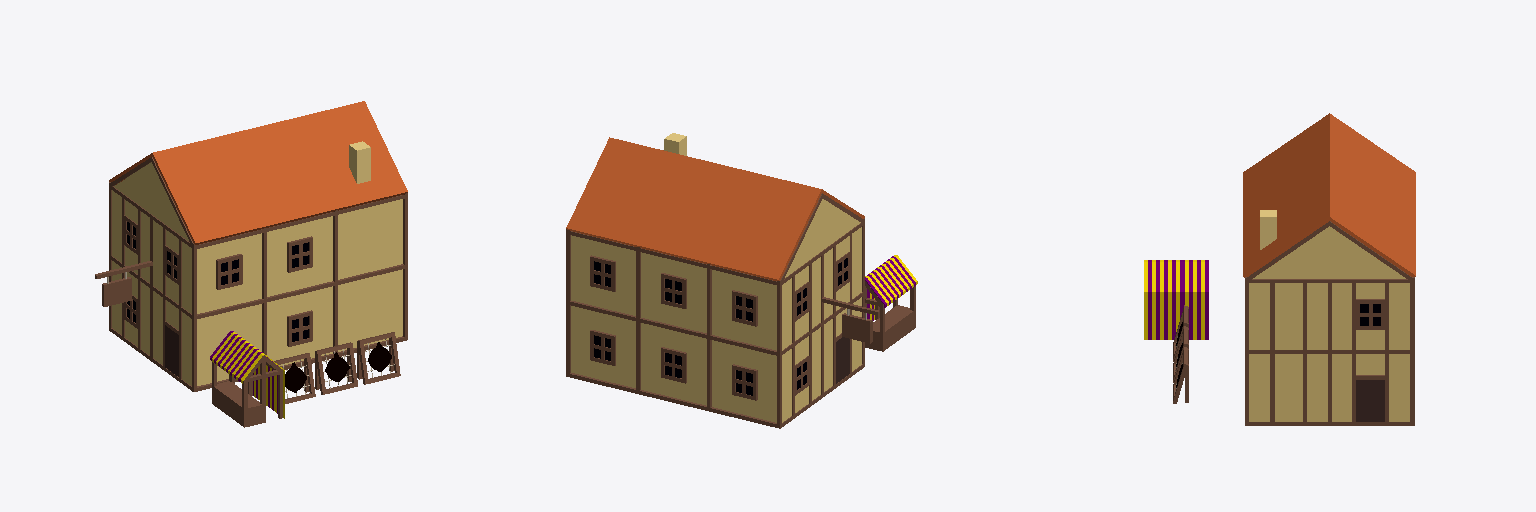
Rendered from timberframedtanner_purple_yellow.obj.
The picture shows the model from 3 angles: view 1: azimuth 30°, elevation 25°; view 2: azimuth 150°, elevation 25°; view 3: azimuth 270°, elevation 25°; orthographic projection.
Parts seen in each view (by area): view 1: Cube.005, Cube.007_Cube.011, Cylinder.001_Cylinder.008, Cylinder.003_Cylinder.001, Cylinder.004_Cylinder.009, Cube.011_Cube.015, Cube.018_Cube.016, Cube.056_Cube.081, Cube.001_Cube.058, Cube.013_Cube.080, Cube.006_Cube.010, Cube.026_Cube.019 (+7 smaller); view 2: Cube.005, Cube.007_Cube.011, Cube.023_Cube.026, Cube.022_Cube.025, Cube.021_Cube.024, Cube.015_Cube.020, Cube.019_Cube.022, Cube.017_Cube.021, Cube.014_Cube.018, Cube.008, Cube.020_Cube.023, Cube.073_Cube.078 (+6 smaller); view 3: Cube.005, Cube.007_Cube.011, Cube.147_Cube.153, Cube.003, Cube.033, Cube.027, Cube.047_Cube.049, Cube.016_Cube.013, Cube.031, Cube.006_Cube.010, Cube.032, Cylinder.001_Cylinder.008 (+5 smaller).
Part boxes in pixels (x1,y1,x2,y2): Cube.005: (112, 162, 402, 385); Cube.007_Cube.011: (109, 101, 407, 244); Cylinder.001_Cylinder.008: (357, 332, 400, 384); Cylinder.003_Cylinder.001: (315, 342, 357, 394); Cylinder.004_Cylinder.009: (274, 353, 315, 403); Cube.011_Cube.015: (195, 264, 406, 319); Cube.018_Cube.016: (195, 195, 406, 249); Cube.056_Cube.081: (216, 254, 242, 289); Cube.001_Cube.058: (287, 310, 312, 346); Cube.013_Cube.080: (287, 236, 312, 272); Cube.006_Cube.010: (349, 141, 370, 183); Cube.026_Cube.019: (192, 243, 196, 391); Cube.005: (571, 199, 861, 422); Cube.007_Cube.011: (566, 137, 864, 280); Cube.023_Cube.026: (567, 373, 779, 427); Cube.022_Cube.025: (567, 301, 776, 355); Cube.021_Cube.024: (567, 231, 777, 284); Cube.015_Cube.020: (732, 290, 757, 326); Cube.019_Cube.022: (661, 347, 686, 383); Cube.017_Cube.021: (590, 330, 615, 365); Cube.014_Cube.018: (661, 273, 686, 308); Cube.008: (590, 255, 615, 291); Cube.020_Cube.023: (732, 364, 757, 400); Cube.073_Cube.078: (842, 313, 872, 343); Cube.005: (1249, 226, 1409, 421); Cube.007_Cube.011: (1243, 113, 1415, 277); Cube.147_Cube.153: (1144, 292, 1208, 339); Cube.003: (1356, 380, 1384, 421); Cube.033: (1356, 299, 1384, 329); Cube.027: (1410, 277, 1414, 425); Cube.047_Cube.049: (1270, 279, 1274, 423); Cube.016_Cube.013: (1248, 350, 1410, 353); Cube.031: (1248, 422, 1410, 425); Cube.006_Cube.010: (1260, 210, 1276, 249); Cube.032: (1248, 279, 1410, 282); Cylinder.001_Cylinder.008: (1173, 347, 1188, 403).
Bounding box in the file's own units: 15.3 × 11.25 × 13.34.